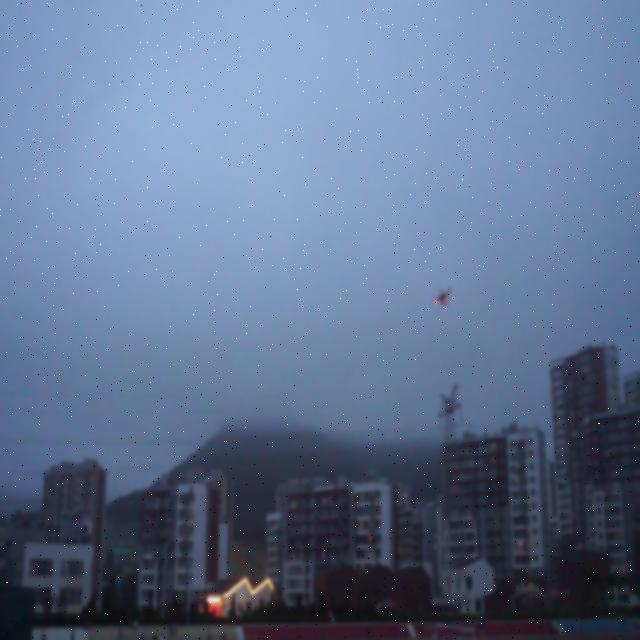UAV: (434, 287, 450, 307)
